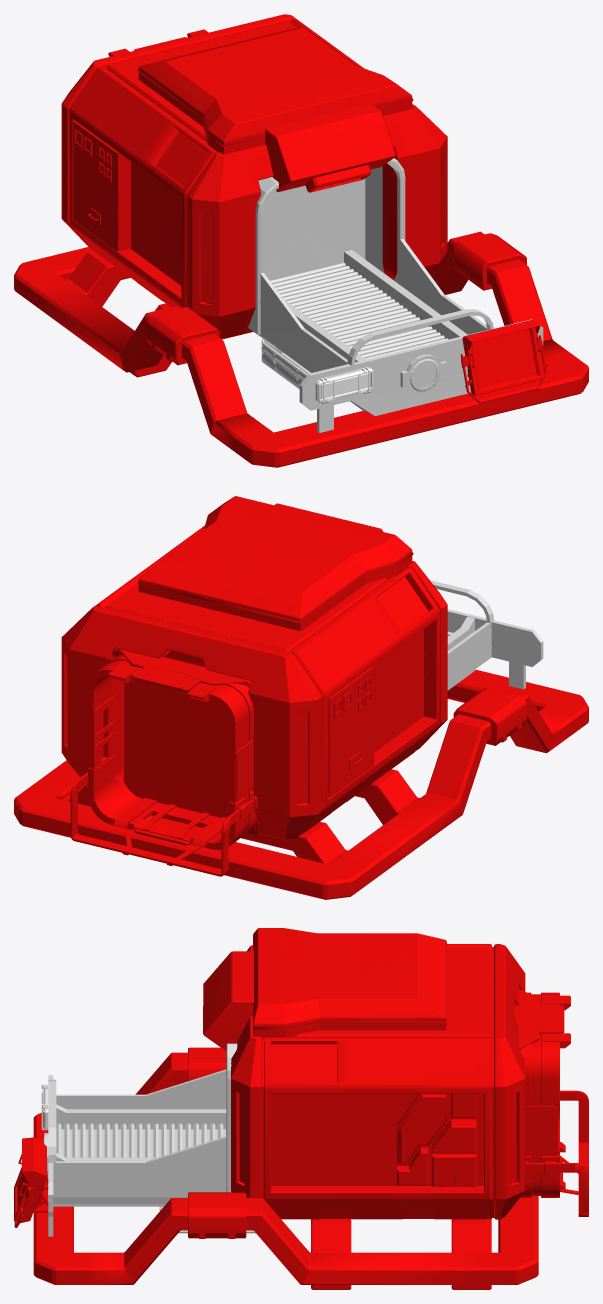
File: Dispenser_0.16b.fbx
3 views of the same model, one above another, from view 1: azimuth 30°, elevation 25°; view 2: azimuth 150°, elevation 25°; view 3: azimuth 270°, elevation 25° (orthographic). The views are drawn at different scales.
Parts seen in each view (by area): view 1: MinerMk1_static, AssemblerMk1_static.mo, SM_QuartzCrystal_01; view 2: MinerMk1_static, AssemblerMk1_static.mo; view 3: MinerMk1_static, AssemblerMk1_static.mo.
Part boxes in pixels (x1=…): MinerMk1_static: x1=14, y1=14, x2=588, y2=467; AssemblerMk1_static.mo: x1=248, y1=158, x2=543, y2=432; SM_QuartzCrystal_01: x1=261, y1=338, x2=310, y2=389; MinerMk1_static: x1=14, y1=496, x2=588, y2=899; AssemblerMk1_static.mo: x1=430, y1=580, x2=543, y2=690; MinerMk1_static: x1=14, y1=928, x2=588, y2=1289; AssemblerMk1_static.mo: x1=43, y1=1043, x2=237, y2=1236.
Bounding box in the file's own units: 495 × 346 × 713.
